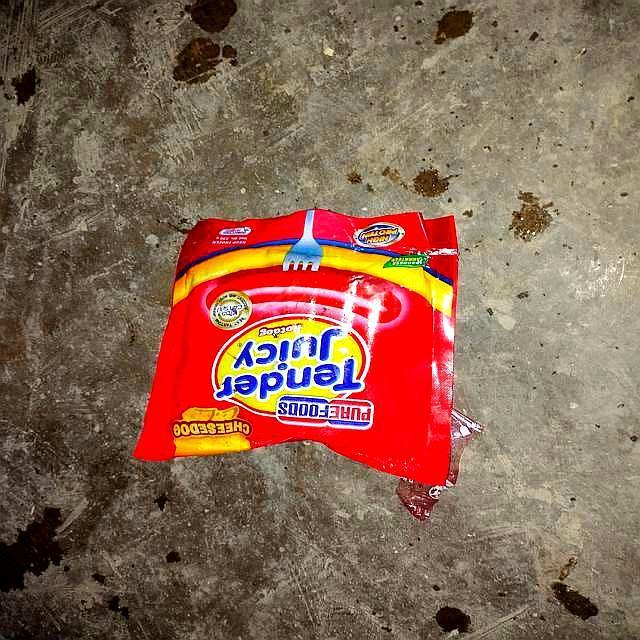Non-biodegradable: (132, 206, 472, 513)
